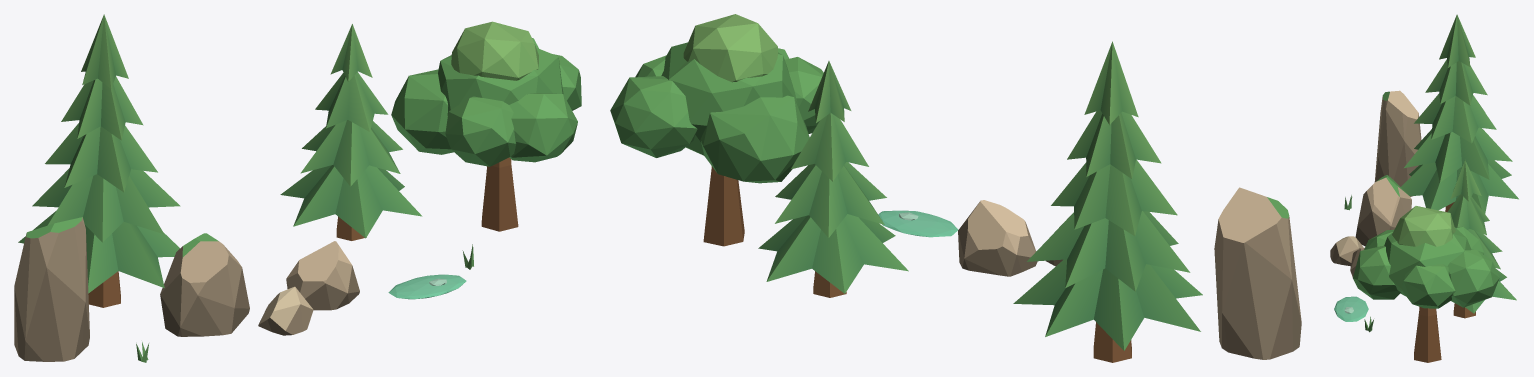
The model's file is ranch_border_grove_rocky.fbx.
The picture shows the model from 3 angles, left to right: view 1: azimuth 30°, elevation 25°; view 2: azimuth 150°, elevation 25°; view 3: azimuth 270°, elevation 25°; orthographic projection. The views are drawn at different scales.
Parts seen in each view (by area): view 1: ranch_border_grove_rocky; view 2: ranch_border_grove_rocky; view 3: ranch_border_grove_rocky.
Boxes of the visible parts, x1=… form: ranch_border_grove_rocky: x1=14, y1=14, x2=581, y2=362; ranch_border_grove_rocky: x1=610, y1=14, x2=1301, y2=362; ranch_border_grove_rocky: x1=1330, y1=14, x2=1518, y2=362.
Bounding box in the file's own units: 33.41 × 15.6 × 12.81.
